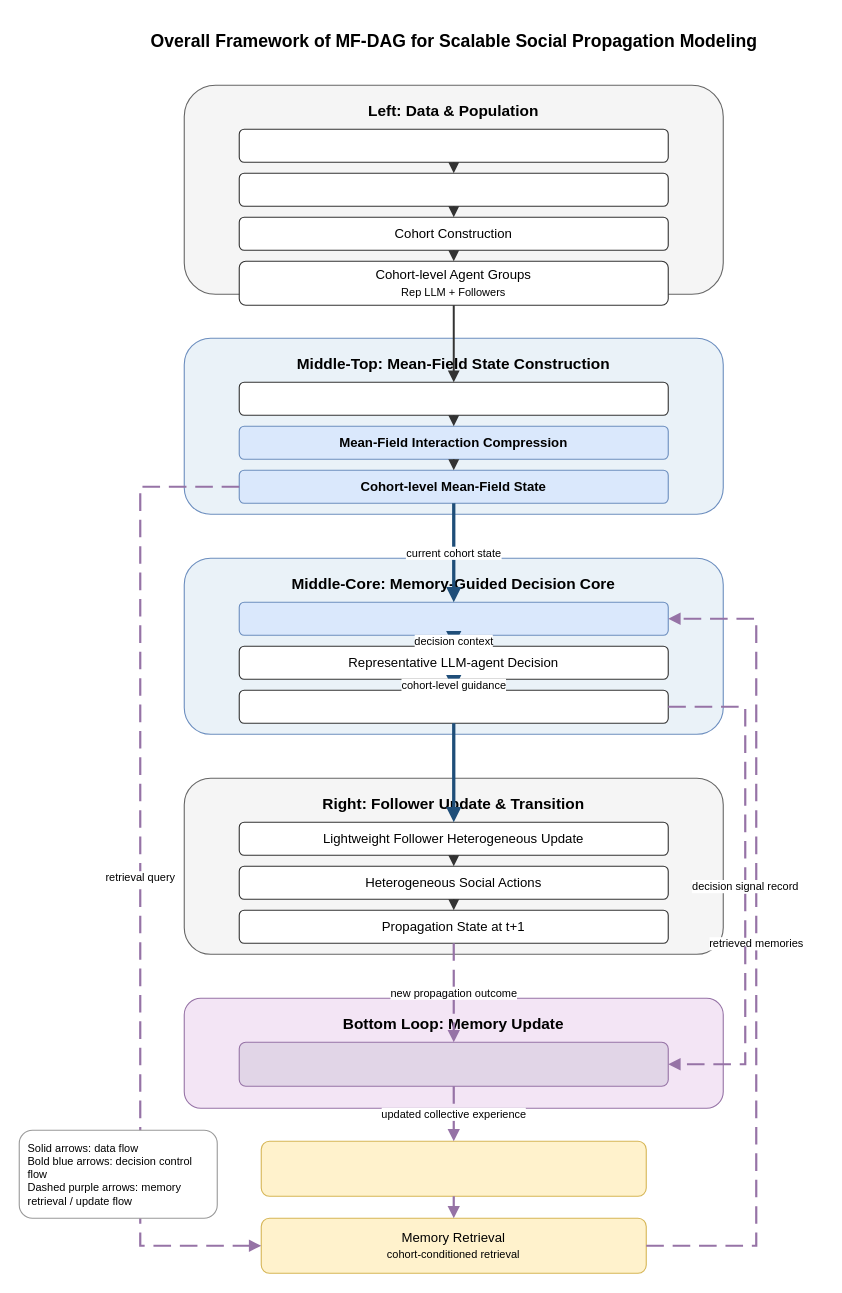
The diagram is 842 pixels wide and 1293 high, and some of its shapes have lost their labels. The shapes that lost their labels are listed below. From the top down, each one's centre as x and y in pixels, then its label:
At (x=453, y=145): "Social Propagation Data Stream".
At (x=453, y=189): "Agent / User Population".
At (x=453, y=398): "Current Propagation State at t".
At (x=453, y=618): "Memory-Guided Decision Harness".
At (x=453, y=706): "Cohort-level Decision Signal".
At (x=453, y=1063): "Memory Update compress current outcome into experience".
At (x=453, y=1168): "Collective Social Memory Bank global collective experience memory".
